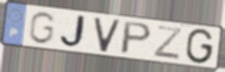G: (184, 28, 215, 66), (27, 11, 58, 46)
J: (59, 14, 90, 50)
P: (119, 21, 154, 56)
V: (92, 16, 122, 54)
Z: (152, 24, 184, 61)
